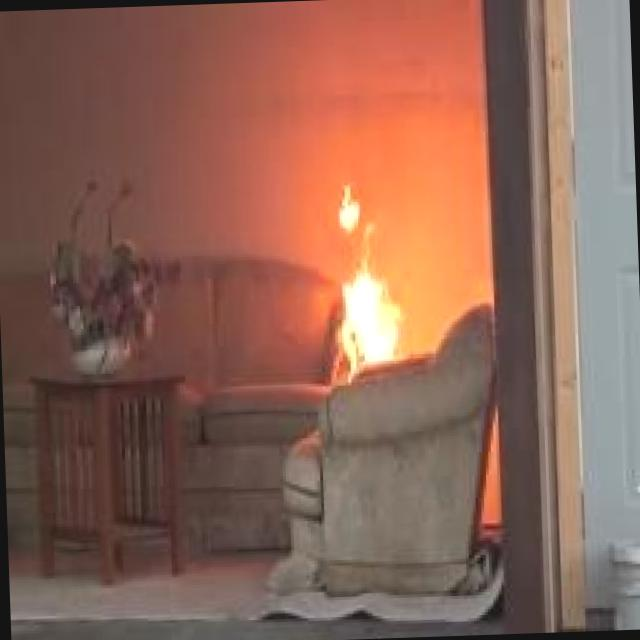fire: (322, 178, 435, 376)
